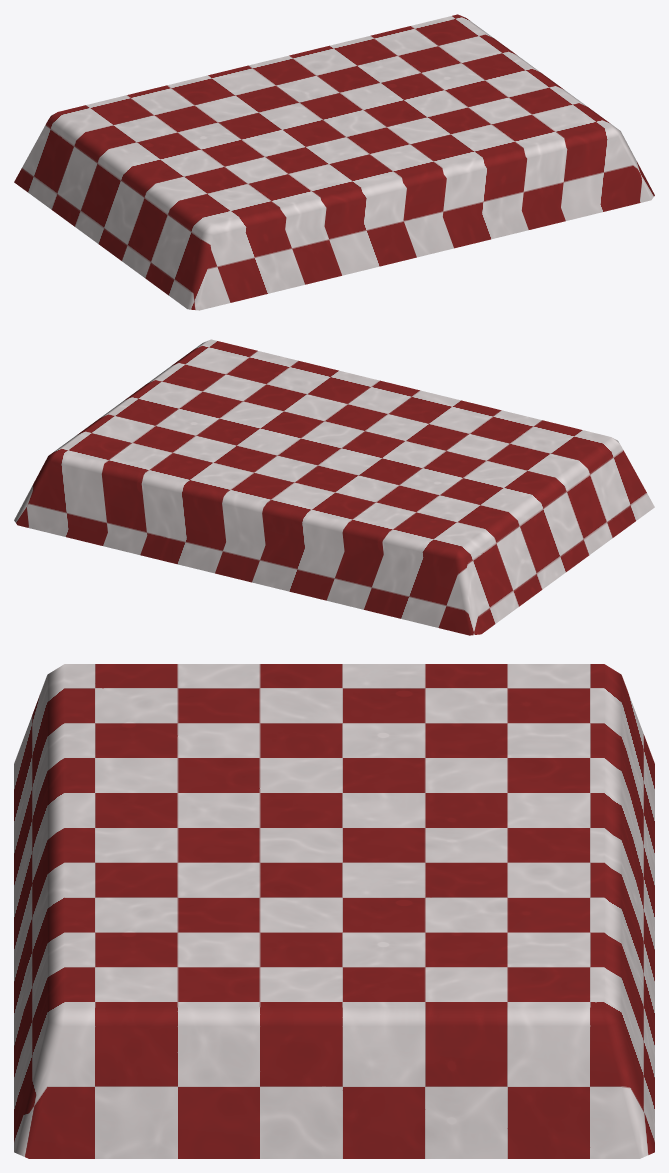
The model's file is SM_Table.fbx.
The picture shows the model from 3 angles, top to bottom: view 1: azimuth 30°, elevation 25°; view 2: azimuth 150°, elevation 25°; view 3: azimuth 270°, elevation 25°; orthographic projection. The views are drawn at different scales.
Visible parts, largest first — view 1: TableCloth; view 2: TableCloth; view 3: TableCloth.
Boxes of the visible parts, x1=… form: TableCloth: x1=14, y1=14, x2=654, y2=310; TableCloth: x1=14, y1=339, x2=654, y2=635; TableCloth: x1=14, y1=664, x2=654, y2=1158.
Size of the model in its own units: 190 by 27.03 by 128.
1 material, 1 textured.
